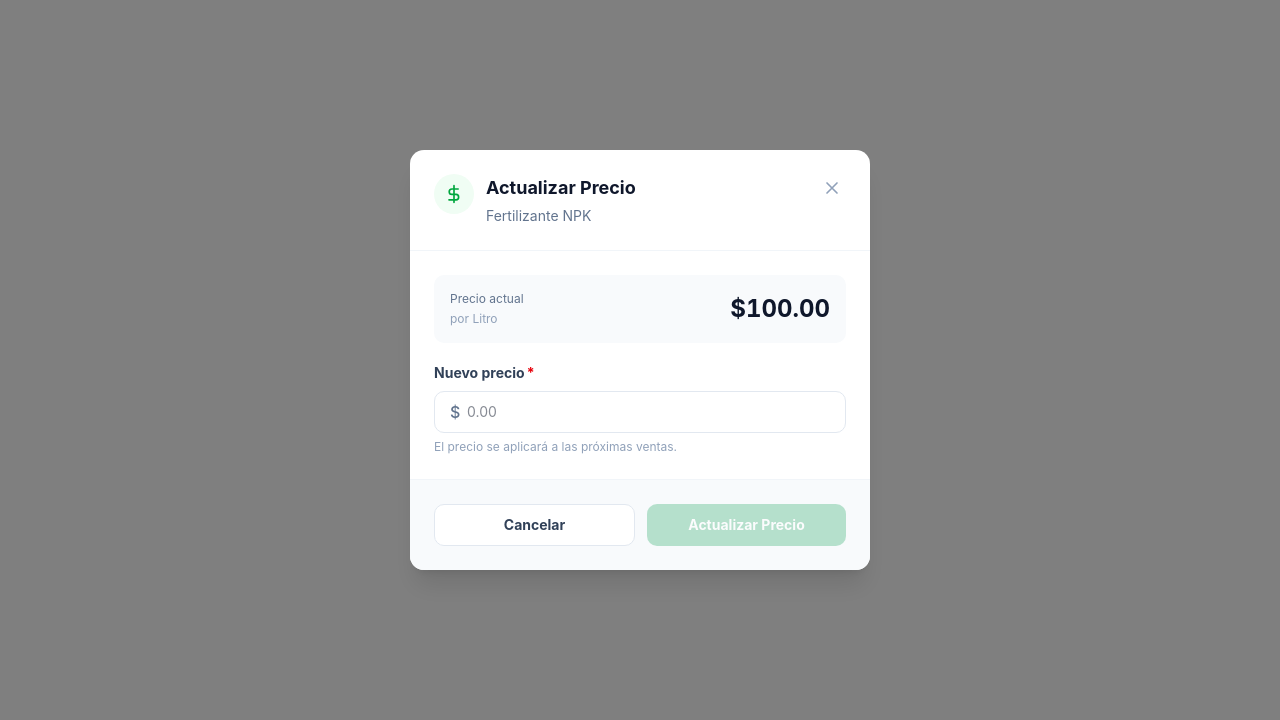
Scenario: NuevoPrecioModal › shows "Sin cambio" when the price is equal
Type "100" into the number field. click: {"x": 640, "y": 412}
box: [434,391,846,433]
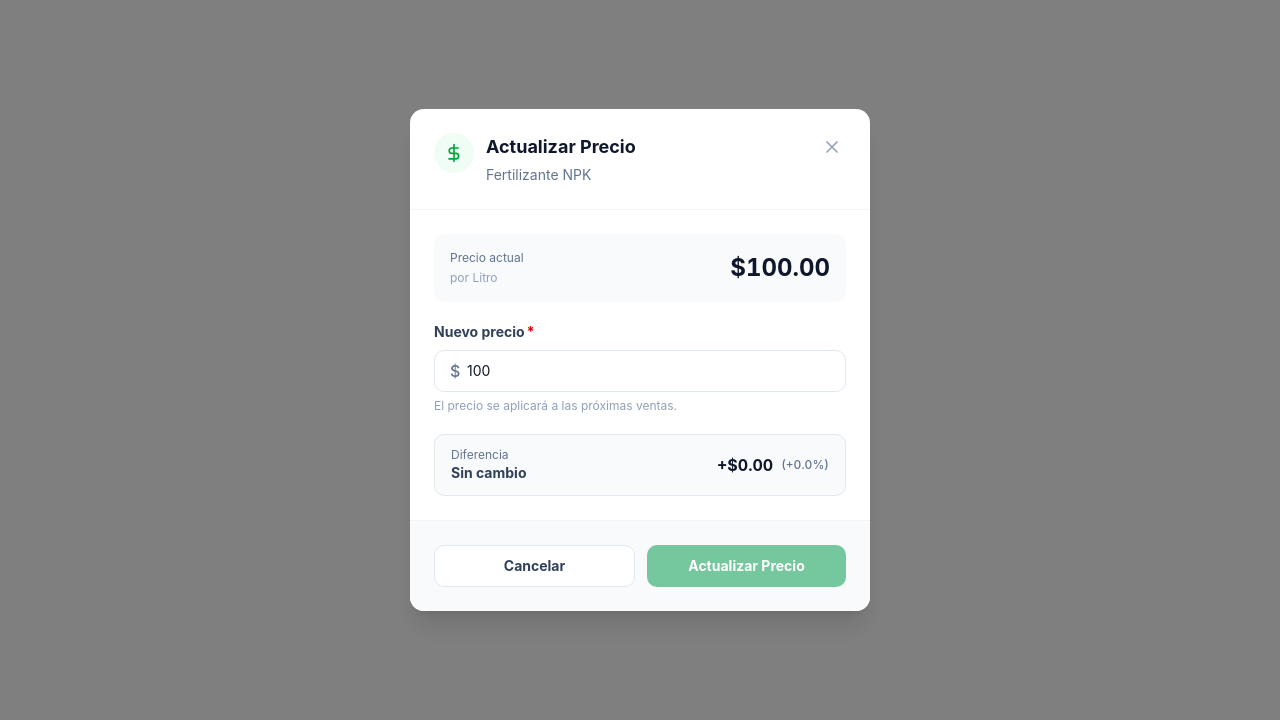
Now the text "Sin cambio" is shown, box [451,463,526,483]
